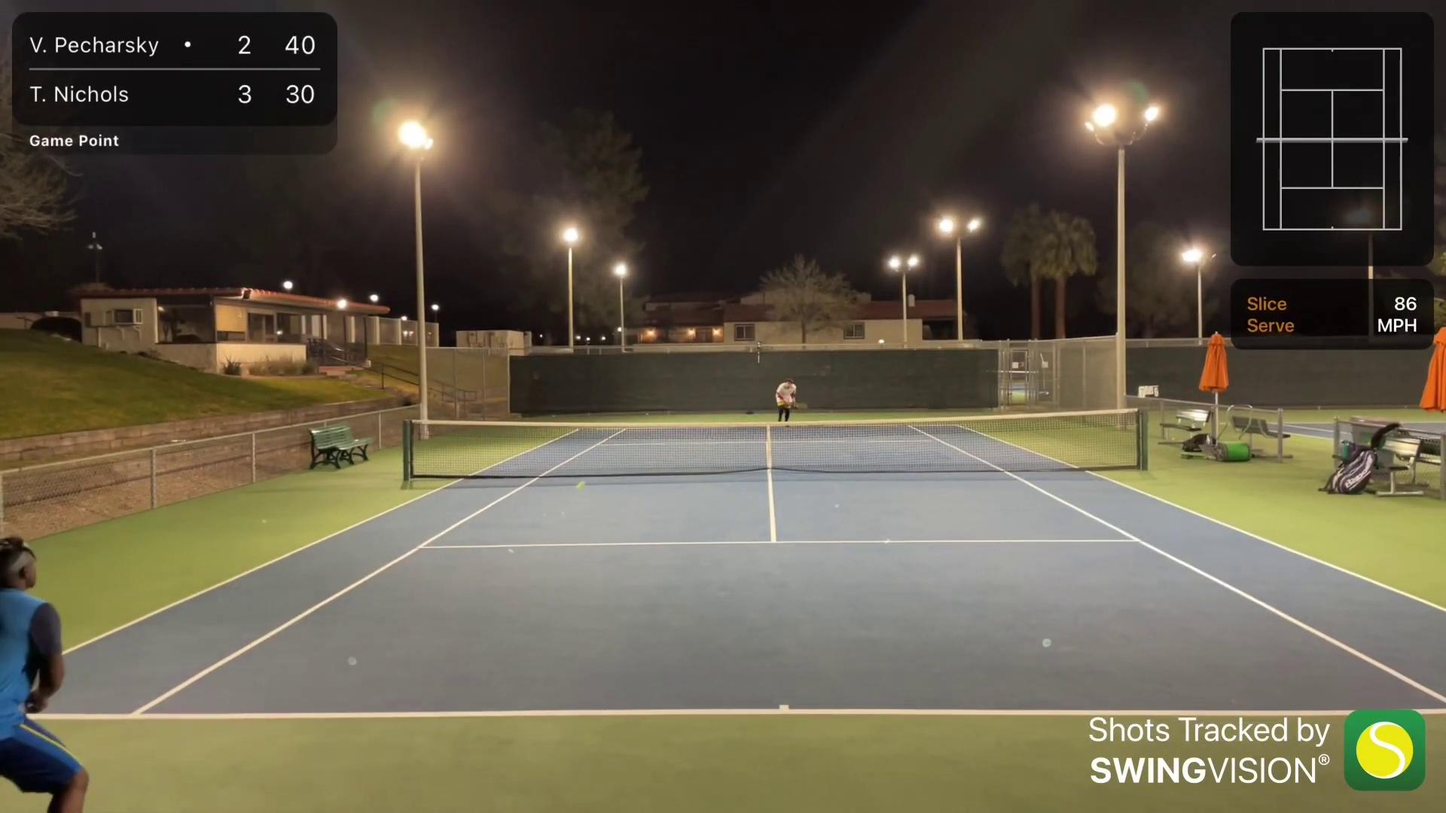ball: (573, 482, 587, 490)
